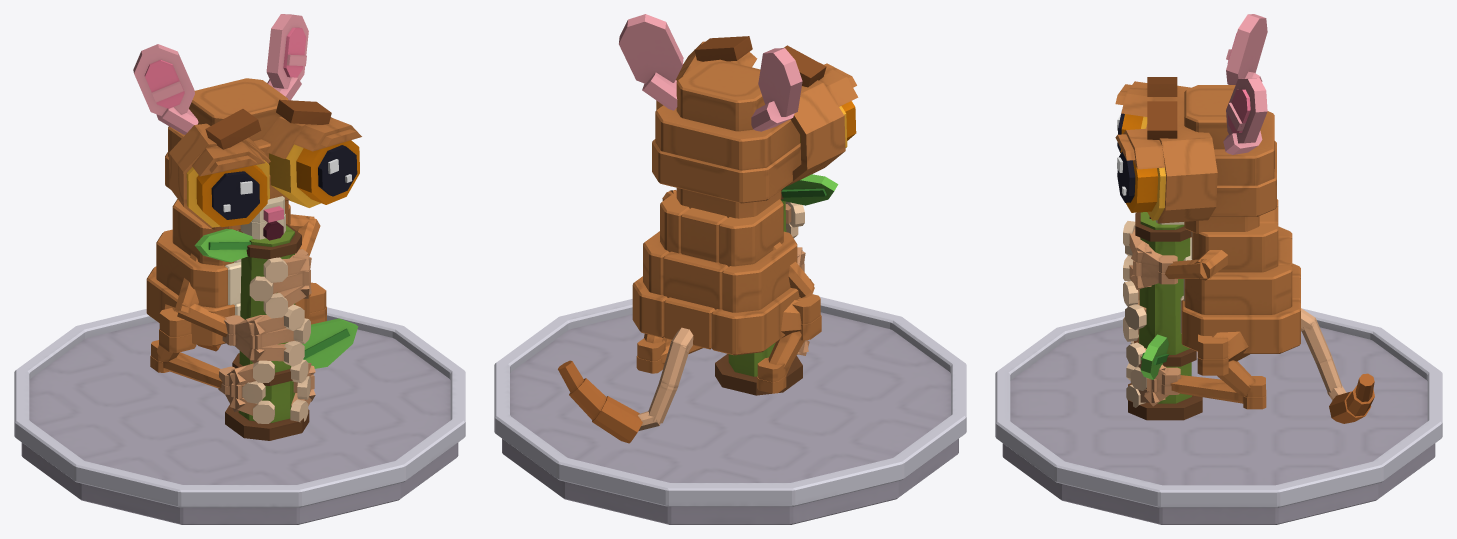
File: BigEyeTarsier.fbx
The picture shows the model from 3 angles, left to right: view 1: azimuth 30°, elevation 25°; view 2: azimuth 150°, elevation 25°; view 3: azimuth 270°, elevation 25°; orthographic projection. The views are drawn at different scales.
Parts seen in each view (by area): view 1: Art_BigEyeTarsier_Stand, Art_BigEyeTarsier_Head, Art_BigEyeTarsier_Haze, Art_BigEyeTarsier_Body, Art_BigEyeTarsier_LegR, Art_BigEyeTarsier_ArmR, Art_BigEyeTarsier_EarR, Art_BigEyeTarsier_ArmL, Art_BigEyeTarsier_EarL, Art_BigEyeTarsier_LegL; view 2: Art_BigEyeTarsier_Stand, Art_BigEyeTarsier_Head, Art_BigEyeTarsier_Body, Art_BigEyeTarsier_Tail, Art_BigEyeTarsier_EarL, Art_BigEyeTarsier_Haze, Art_BigEyeTarsier_LegR, Art_BigEyeTarsier_EarR, Art_BigEyeTarsier_LegL, Art_BigEyeTarsier_ArmR, Art_BigEyeTarsier_ArmL; view 3: Art_BigEyeTarsier_Stand, Art_BigEyeTarsier_Head, Art_BigEyeTarsier_Body, Art_BigEyeTarsier_Haze, Art_BigEyeTarsier_LegL, Art_BigEyeTarsier_ArmL, Art_BigEyeTarsier_Tail, Art_BigEyeTarsier_EarL, Art_BigEyeTarsier_EarR, Art_BigEyeTarsier_ArmR.
Boxes of the visible parts, bbox=[...] form: Art_BigEyeTarsier_Stand: bbox=[14, 307, 465, 524]; Art_BigEyeTarsier_Head: bbox=[165, 78, 361, 240]; Art_BigEyeTarsier_Haze: bbox=[194, 224, 358, 440]; Art_BigEyeTarsier_Body: bbox=[146, 199, 310, 346]; Art_BigEyeTarsier_LegR: bbox=[150, 304, 274, 423]; Art_BigEyeTarsier_ArmR: bbox=[175, 253, 310, 366]; Art_BigEyeTarsier_EarR: bbox=[133, 44, 198, 134]; Art_BigEyeTarsier_ArmL: bbox=[249, 214, 320, 318]; Art_BigEyeTarsier_EarL: bbox=[266, 14, 308, 100]; Art_BigEyeTarsier_LegL: bbox=[290, 282, 326, 422]; Art_BigEyeTarsier_Stand: bbox=[494, 297, 966, 524]; Art_BigEyeTarsier_Head: bbox=[652, 36, 858, 218]; Art_BigEyeTarsier_Body: bbox=[632, 191, 799, 355]; Art_BigEyeTarsier_Tail: bbox=[558, 327, 693, 443]; Art_BigEyeTarsier_EarL: bbox=[619, 14, 683, 110]; Art_BigEyeTarsier_Haze: bbox=[715, 174, 838, 395]; Art_BigEyeTarsier_LegR: bbox=[757, 294, 821, 393]; Art_BigEyeTarsier_EarR: bbox=[751, 48, 802, 131]; Art_BigEyeTarsier_LegL: bbox=[636, 333, 702, 373]; Art_BigEyeTarsier_ArmR: bbox=[773, 242, 814, 298]; Art_BigEyeTarsier_ArmL: bbox=[662, 190, 804, 237]; Art_BigEyeTarsier_Stand: bbox=[995, 308, 1442, 524]; Art_BigEyeTarsier_Head: bbox=[1115, 77, 1276, 233]; Art_BigEyeTarsier_Body: bbox=[1180, 199, 1300, 353]; Art_BigEyeTarsier_Haze: bbox=[1128, 212, 1202, 420]; Art_BigEyeTarsier_LegL: bbox=[1126, 331, 1266, 409]; Art_BigEyeTarsier_ArmL: bbox=[1123, 221, 1228, 289]; Art_BigEyeTarsier_Tail: bbox=[1301, 308, 1374, 423]; Art_BigEyeTarsier_EarL: bbox=[1223, 78, 1267, 154]; Art_BigEyeTarsier_EarR: bbox=[1226, 14, 1267, 84]; Art_BigEyeTarsier_ArmR: bbox=[1123, 281, 1146, 341].
Size of the model in its own units: 2.99 by 2.86 by 2.99.
